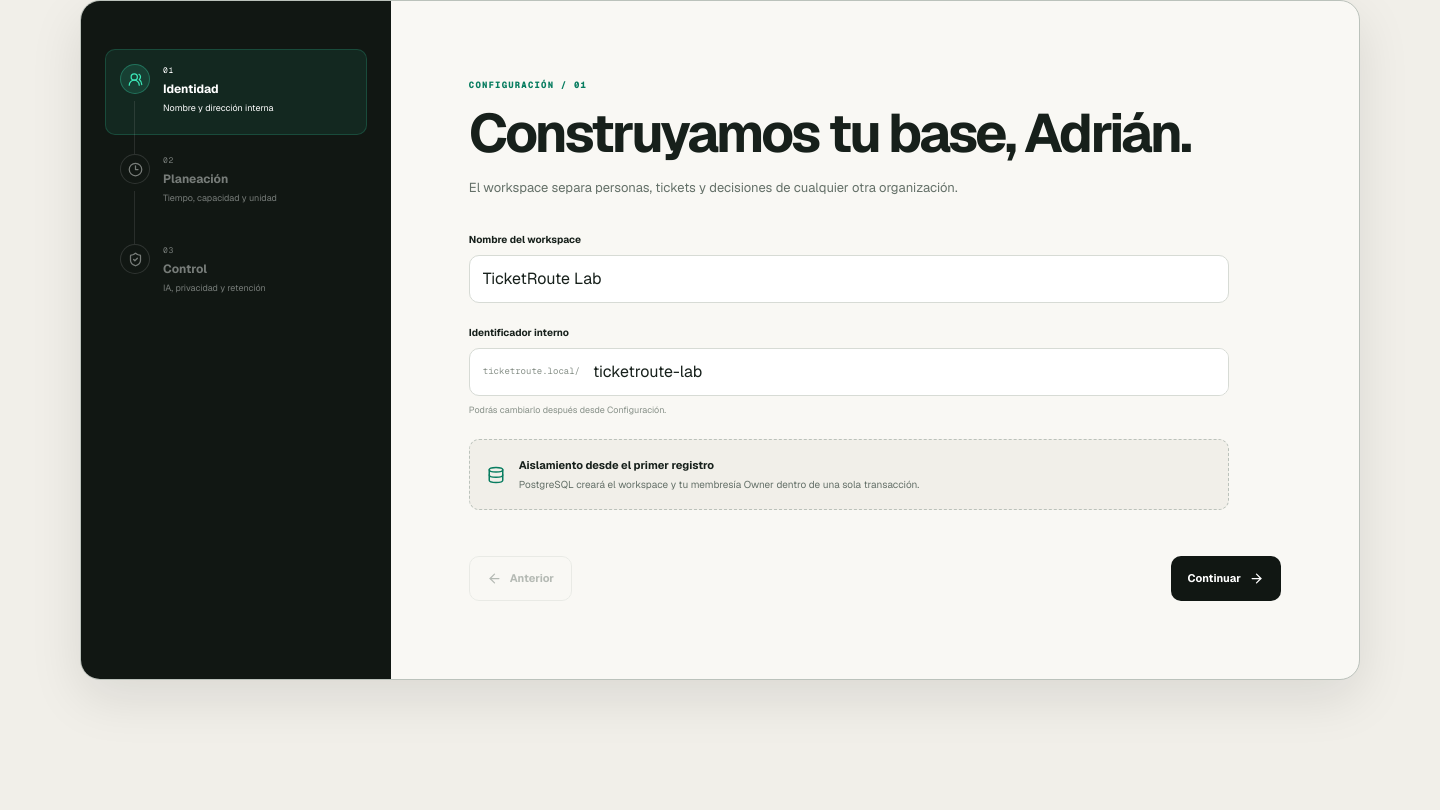
Scenario: OnboardingForm › recorre la configuración sin ocultar decisiones de privacidad
Expected: the heading "Construyamos tu base, Adrián." is shown, [469,106,1229,160]
Click the button "Continuar" at (1226, 578), box [1171,556,1281,601]
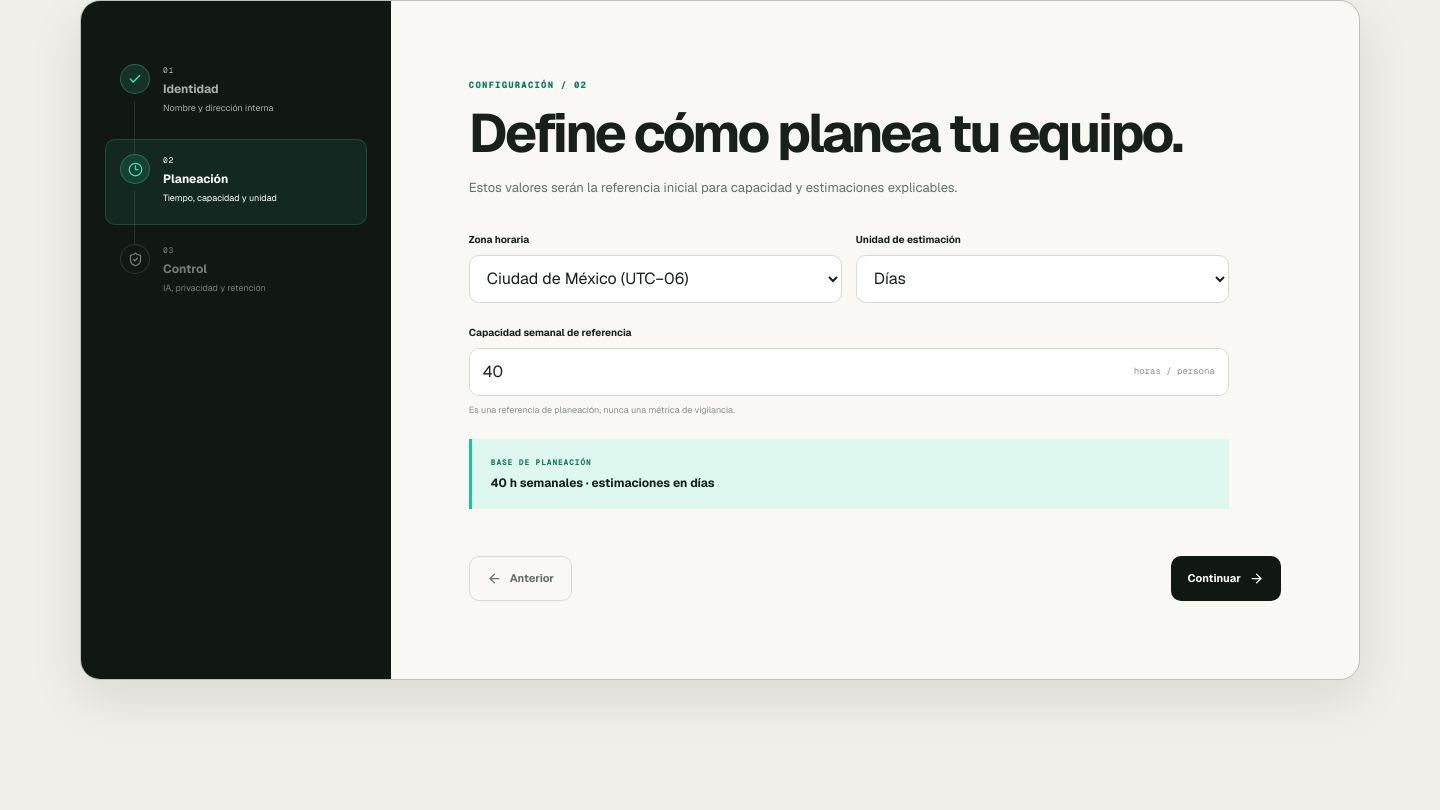
Now the heading "Define cómo planea tu equipo." is shown, box [469,106,1229,160]
Click the button "Continuar" at (1226, 578), box [1171,556,1281,601]
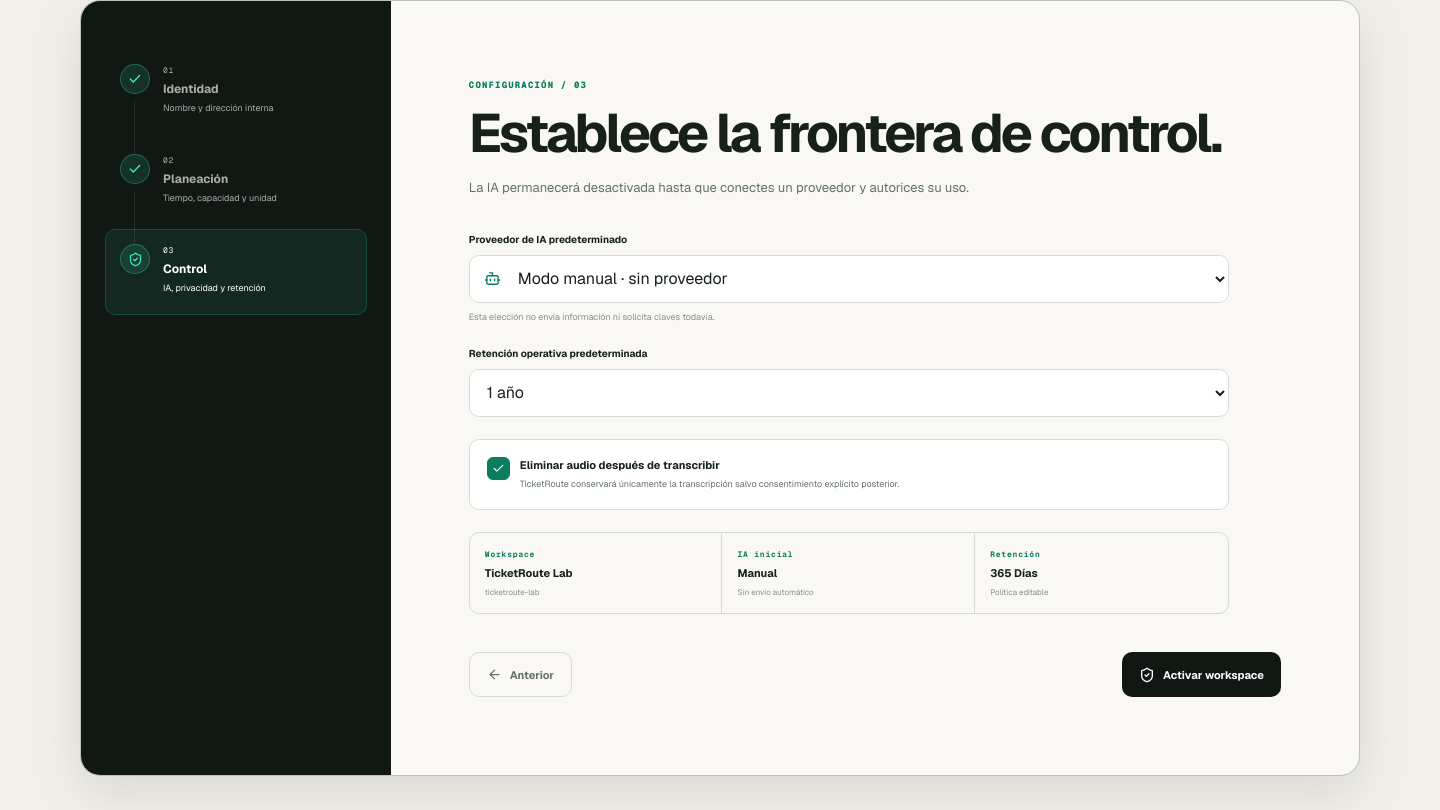
Now the heading "Establece la frontera de control." is shown, box [469,106,1229,160]
Now the text "Eliminar audio después de transcribir" is shown, box [520,458,720,472]
